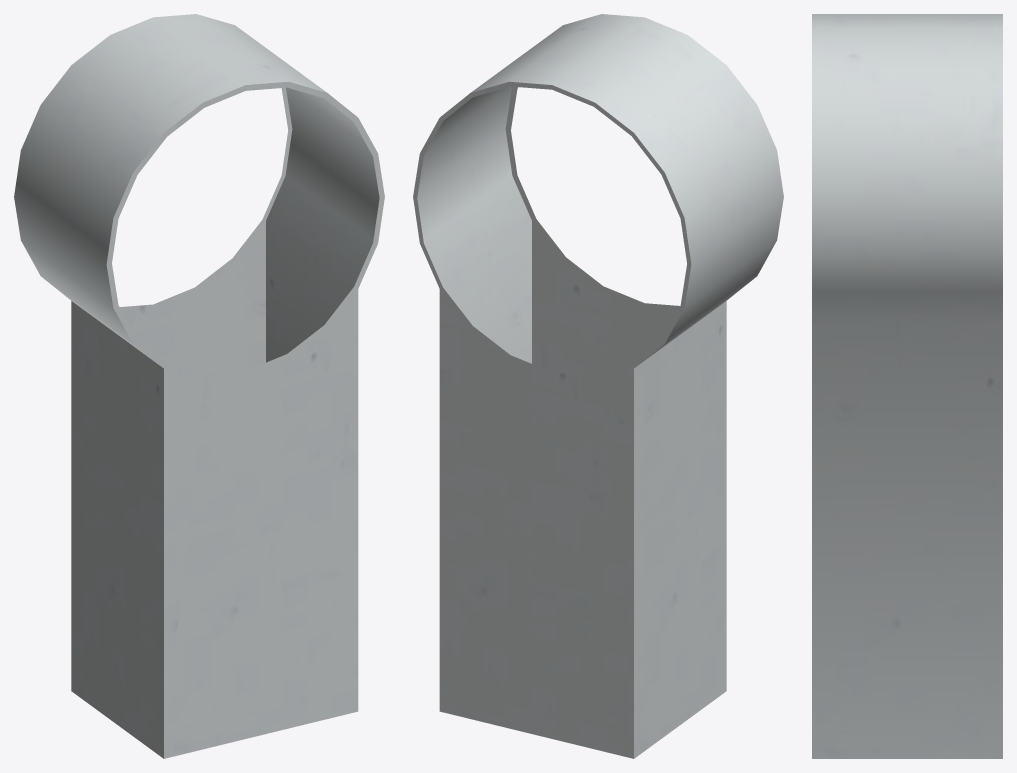
File: SM_光谱仪_跟旋转.FBX
3 views of the same model, side by side, from view 1: azimuth 30°, elevation 25°; view 2: azimuth 150°, elevation 25°; view 3: azimuth 270°, elevation 25° (orthographic). The views are drawn at different scales.
Parts seen in each view (by area): view 1: SM_光谱仪_跟旋转; view 2: SM_光谱仪_跟旋转; view 3: SM_光谱仪_跟旋转.
Boxes of the visible parts, x1=… form: SM_光谱仪_跟旋转: x1=14, y1=14, x2=384, y2=758; SM_光谱仪_跟旋转: x1=413, y1=14, x2=783, y2=758; SM_光谱仪_跟旋转: x1=812, y1=14, x2=1002, y2=758.
Bounding box in the file's own units: 0.0657 × 0.1475 × 0.0378.
